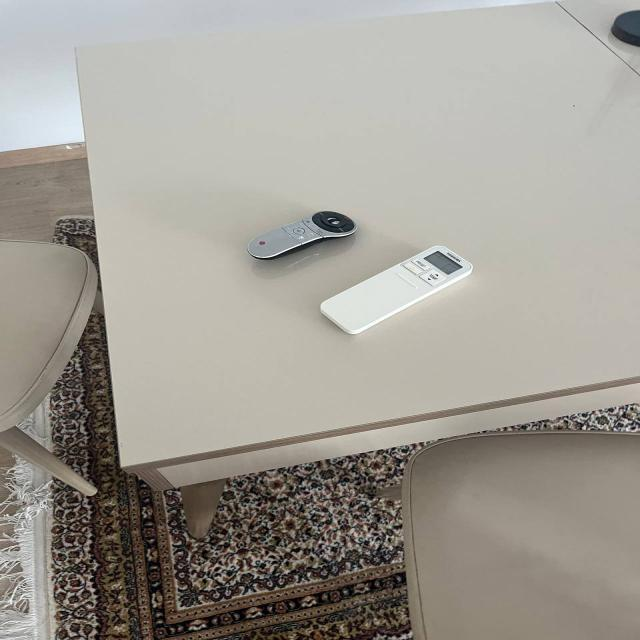remote: (307, 241, 498, 347), (214, 210, 367, 267)
